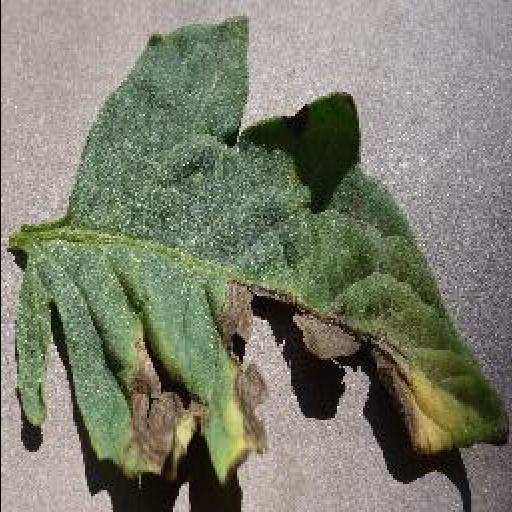disease_tomato: (12, 20, 504, 478)
